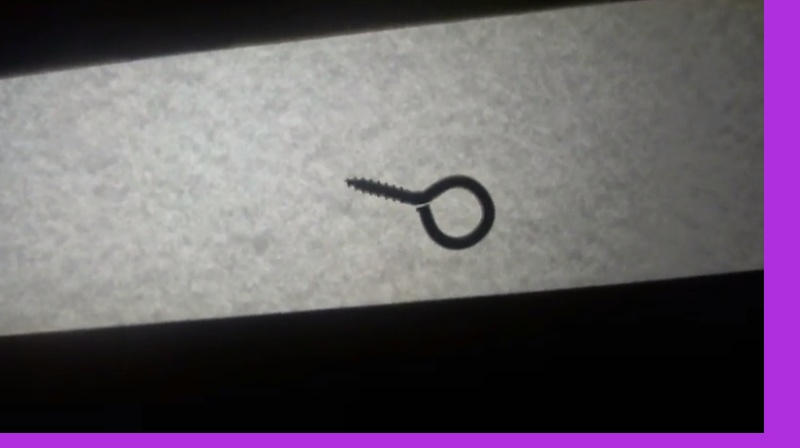O001: (341, 173, 497, 252)
